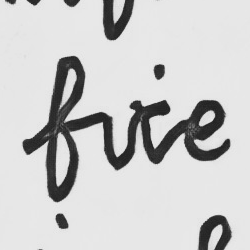e: (181, 96, 233, 162)
f: (41, 52, 84, 204)
i: (95, 104, 120, 173)
x: (125, 97, 171, 166)
